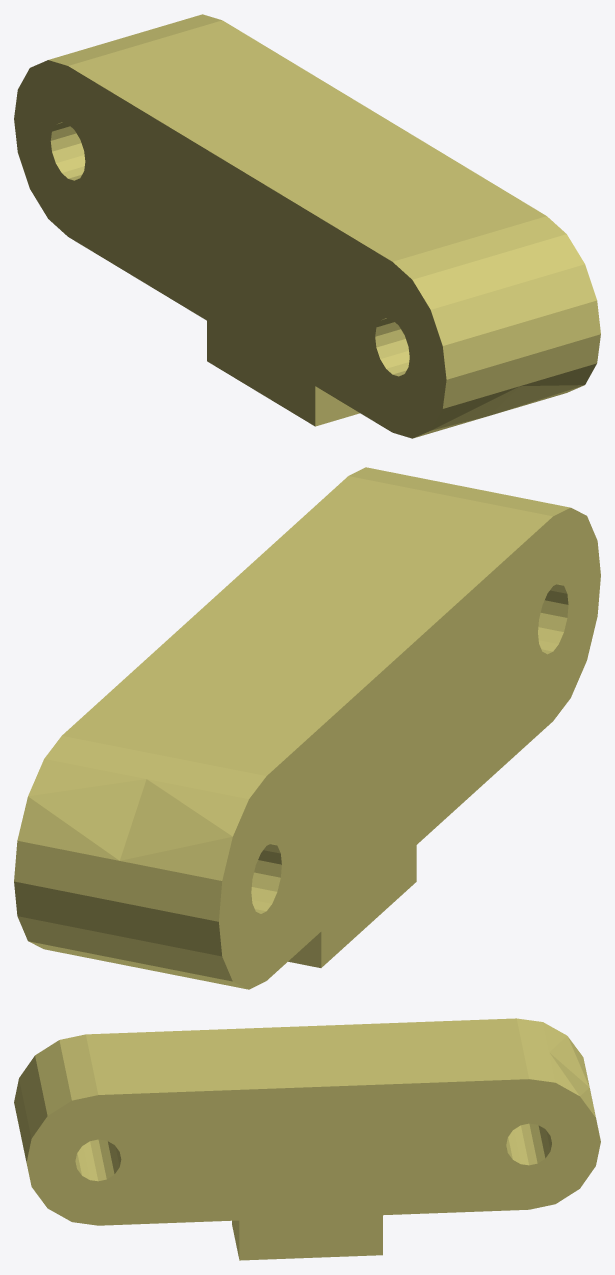
Rendered from LARM_RING2_LINK_mesh.dae.
3 views of the same model, one above another, from view 1: azimuth 30°, elevation 25°; view 2: azimuth 150°, elevation 25°; view 3: azimuth 270°, elevation 25° (orthographic). The views are drawn at different scales.
Visible parts, largest first — view 1: LARM_RING2_LINK; view 2: LARM_RING2_LINK; view 3: LARM_RING2_LINK.
Boxes of the visible parts, box(x1,y1,x2,y2) form: LARM_RING2_LINK: box(14, 14, 600, 438); LARM_RING2_LINK: box(14, 467, 600, 989); LARM_RING2_LINK: box(14, 1018, 600, 1260).
Size of the model in its own units: 0.0134 by 0.014 by 0.0407.
